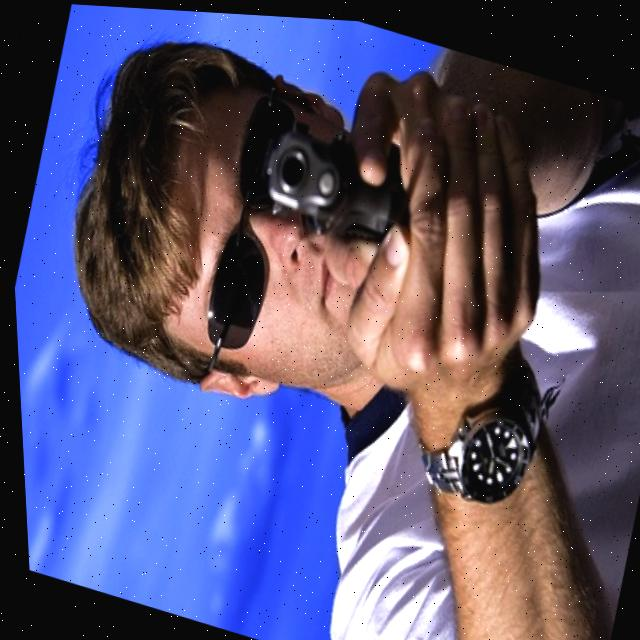pistol: (248, 107, 426, 257)
